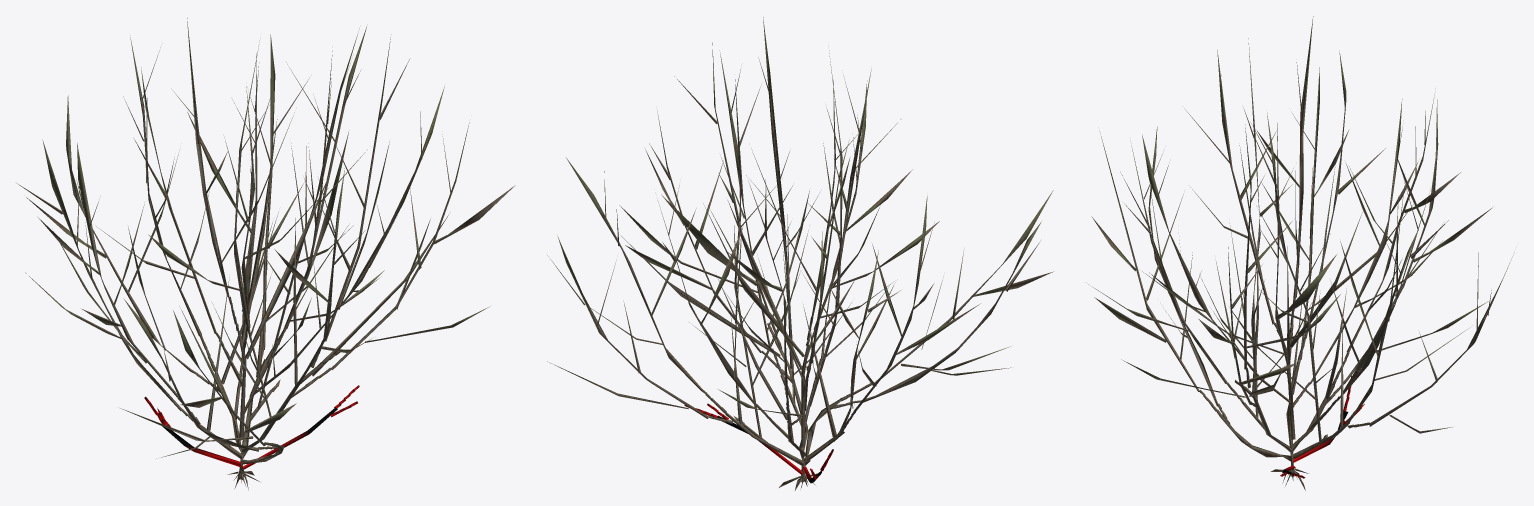
Rendered from Bush.fbx.
3 renders of one model, left to right at view 1: azimuth 30°, elevation 25°; view 2: azimuth 150°, elevation 25°; view 3: azimuth 270°, elevation 25°, orthographic. The views are drawn at different scales.
Parts seen in each view (by area): view 1: Salix_elaeagnos_HD; view 2: Salix_elaeagnos_HD; view 3: Salix_elaeagnos_HD.
Part boxes in pixels (x1=…): Salix_elaeagnos_HD: x1=17, y1=18, x2=515, y2=490; Salix_elaeagnos_HD: x1=547, y1=17, x2=1053, y2=490; Salix_elaeagnos_HD: x1=1088, y1=16, x2=1515, y2=490.
Size of the model in its own units: 47 by 51.61 by 45.33.
